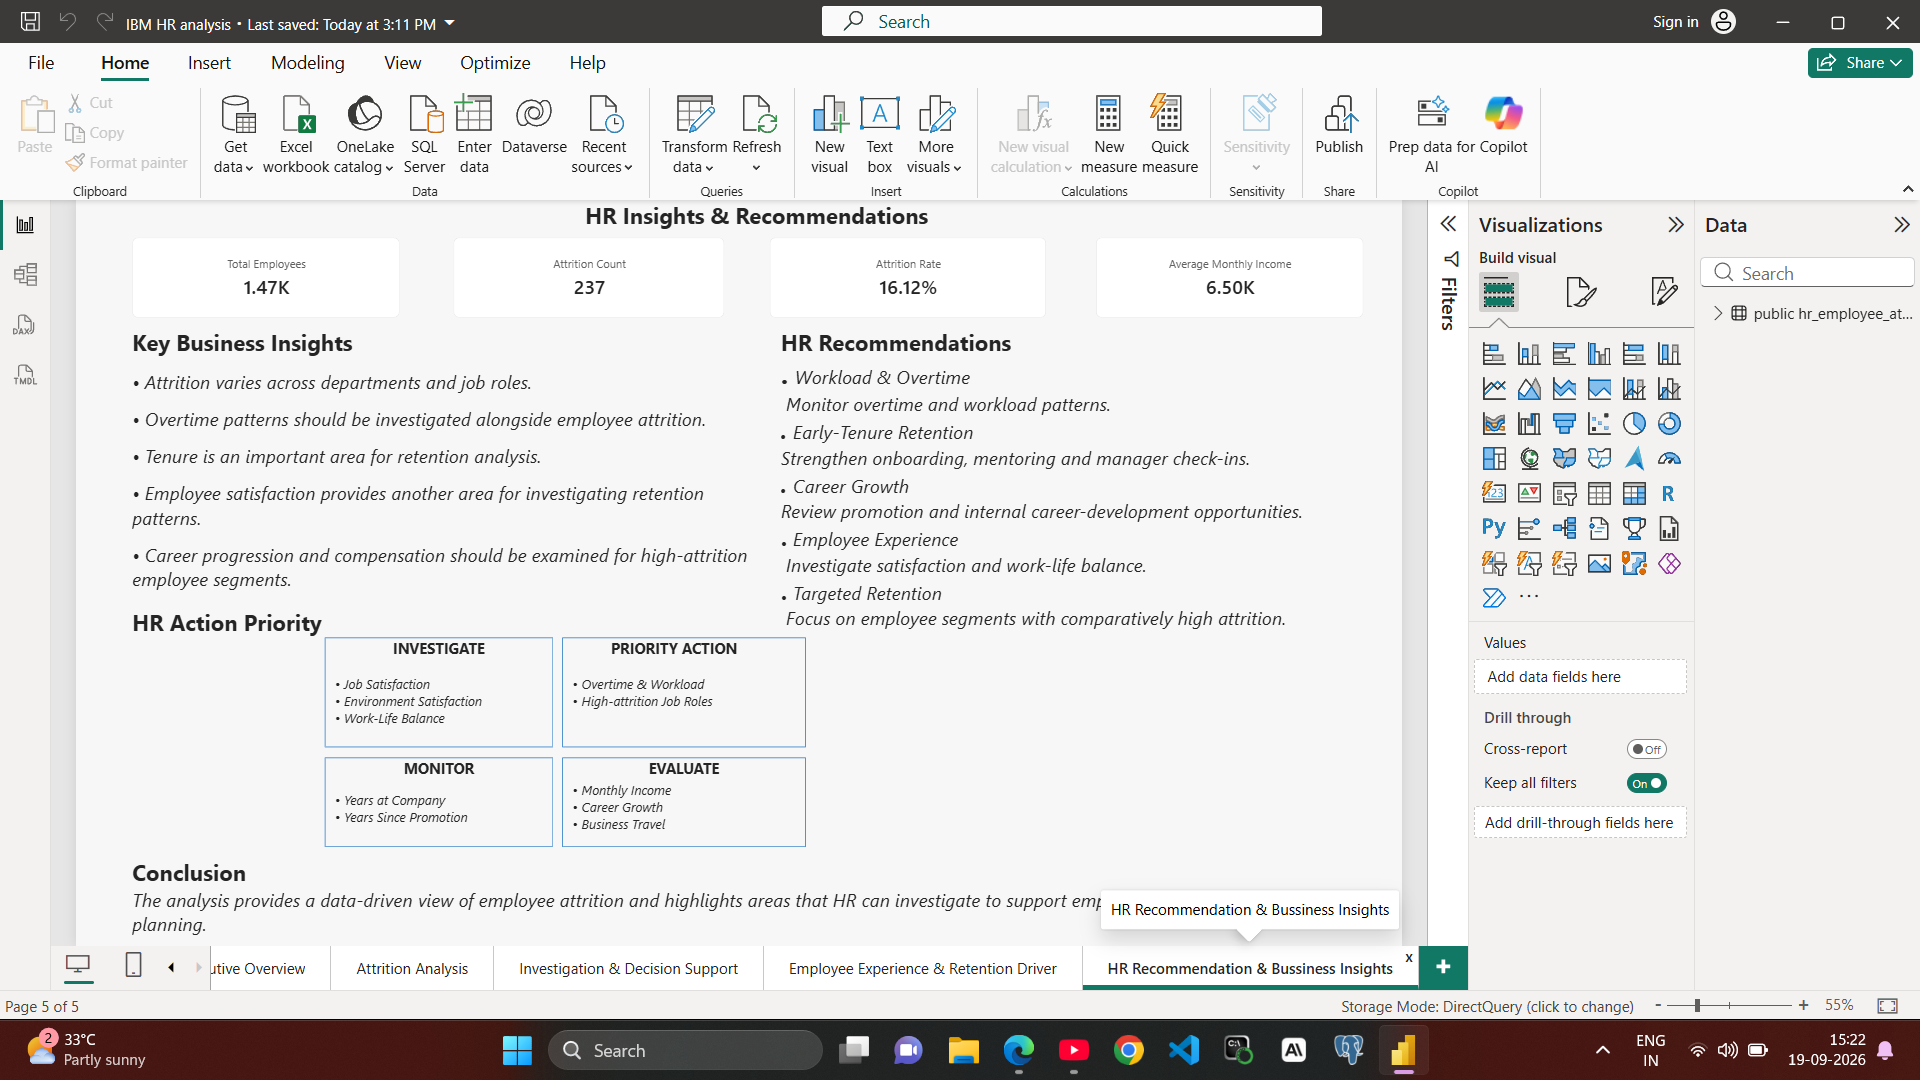

This screenshot's page, from the dashboard's own definition file:
{"tool":"powerbi","page":{"name":"HR Recommendation & Bussiness Insights","canvas":[1920,1080],"ordinal":4},"visuals":[{"type":"textbox","box":[9.1,0,1911.2,109.6],"z":0},{"type":"cardVisual","fields":{"Data":["public hr_employee_attrition.Total Employees"]},"box":[82.2,54.8,387.4,116.9],"z":1},{"type":"cardVisual","fields":{"Data":["public hr_employee_attrition.Attrition Count"]},"box":[546.3,54.8,392.8,116.9],"z":2},{"type":"cardVisual","fields":{"Data":["public hr_employee_attrition.Attrition Rate"]},"box":[1005,54.8,400.2,116.9],"z":3},{"type":"cardVisual","fields":{"Data":["public hr_employee_attrition.Average Monthly Income"]},"box":[1476.4,54.8,387.4,116.9],"z":4},{"type":"textbox","box":[82.2,184.5,922.7,405.6],"z":5},{"type":"textbox","box":[1021.4,184.5,787.5,707.1],"z":6},{"type":"textbox","box":[82.2,952,1781.5,127.9],"z":7},{"type":"textbox","box":[82.2,590.2,555.5,347.2],"z":8},{"type":"shape","box":[360,634,330.7,159],"z":9},{"type":"shape","box":[360,807.6,330.7,129.7],"z":11},{"type":"shape","box":[703.5,807.6,352.6,129.7],"z":12},{"type":"textbox","box":[674.2,634,381.9,34.7],"z":13},{"type":"textbox","box":[360,634,330.7,34.7],"z":14},{"type":"textbox","box":[360,807.6,330.7,34.7],"z":15},{"type":"textbox","box":[703.5,807.6,352.6,34.7],"z":16},{"type":"shape","box":[703.5,634,352.6,159],"z":17},{"type":"textbox","box":[360,687,330.7,106],"z":18},{"type":"textbox","box":[703.5,687,352.6,106],"z":19},{"type":"textbox","box":[360,855.1,330.7,82.2],"z":20},{"type":"textbox","box":[703.5,842.3,352.6,95],"z":21}]}

Visuals, with their boxes on the page's 1920x1080 design canvas (x1, y1, x2, y2). These are canvas units, not pixel positions in the 1920x1080 screenshot, which may show the page scaled, cropped or inside an application window:
textbox: select_region(9, 0, 1920, 110)
cardVisual - public hr_employee_attrition.Total Employees: select_region(82, 55, 470, 172)
cardVisual - public hr_employee_attrition.Attrition Count: select_region(546, 55, 939, 172)
cardVisual - public hr_employee_attrition.Attrition Rate: select_region(1005, 55, 1405, 172)
cardVisual - public hr_employee_attrition.Average Monthly Income: select_region(1476, 55, 1864, 172)
textbox: select_region(82, 184, 1005, 590)
textbox: select_region(1021, 184, 1809, 892)
textbox: select_region(82, 952, 1864, 1080)
textbox: select_region(82, 590, 638, 937)
shape: select_region(360, 634, 691, 793)
shape: select_region(360, 808, 691, 937)
shape: select_region(704, 808, 1056, 937)
textbox: select_region(674, 634, 1056, 669)
textbox: select_region(360, 634, 691, 669)
textbox: select_region(360, 808, 691, 842)
textbox: select_region(704, 808, 1056, 842)
shape: select_region(704, 634, 1056, 793)
textbox: select_region(360, 687, 691, 793)
textbox: select_region(704, 687, 1056, 793)
textbox: select_region(360, 855, 691, 937)
textbox: select_region(704, 842, 1056, 937)
